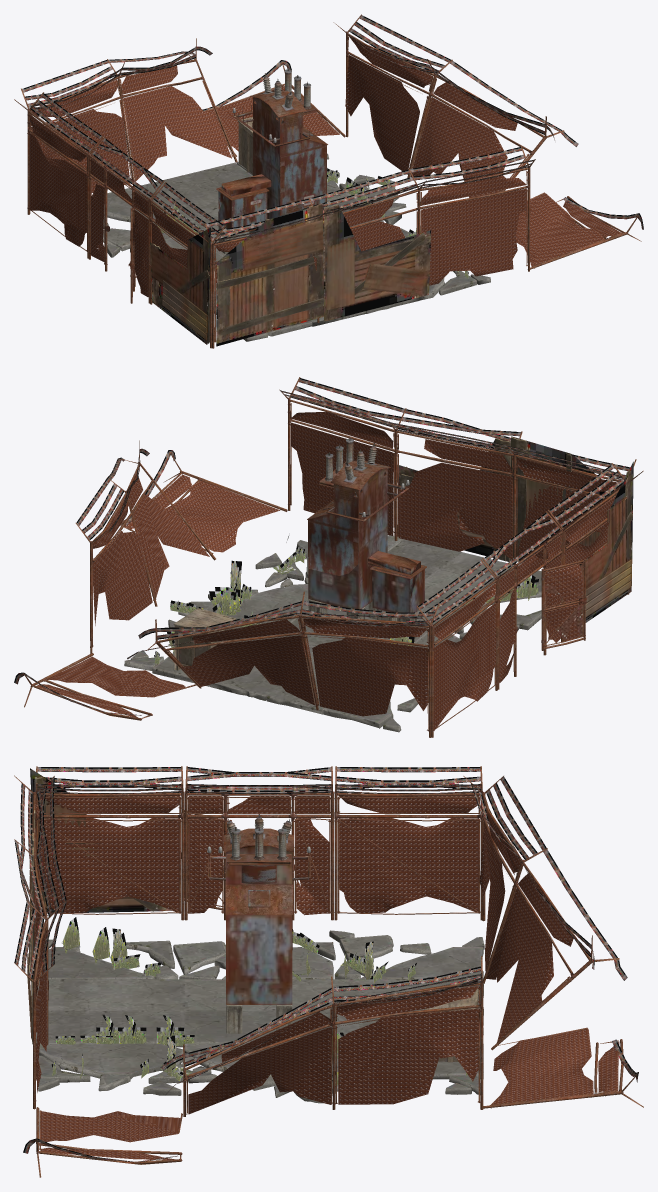
File: power_sub_small_2.glb
3 renders of one model, top to bottom at view 1: azimuth 30°, elevation 25°; view 2: azimuth 150°, elevation 25°; view 3: azimuth 270°, elevation 25°, orthographic. The views are drawn at different scales.
Parts seen in each view (by area): view 1: chainlink_fence_3x9_end_LOD0 (×2), power_sub_small_2, chainlink_fence_3x9_LOD0, chainlink_fence_3x3_LOD0 (×2), substation_a_LOD0, chainlink_fence_3x3_gate_LOD0, cover_c_LOD0, cover_a_LOD0, cover_d_LOD0, concrete_slabs_9x3_fade_a, concrete_slabs_9x3_fade_c, cracks_grass_e_temperate; view 2: chainlink_fence_3x9_end_LOD0 (×2), chainlink_fence_3x9_LOD0, power_sub_small_2, chainlink_fence_3x3_LOD0 (×2), substation_a_LOD0, chainlink_fence_3x3_gate_LOD0, chainlink_fence_door, cracks_grass_e_temperate, cover_a_LOD0, cover_d_LOD0, concrete_slabs_9x3_fade_a, cargo_pack (15) (+4 smaller); view 3: chainlink_fence_3x9_end_LOD0 (×2), chainlink_fence_3x3_LOD0 (×2), power_sub_small_2, chainlink_fence_3x3_gate_LOD0, chainlink_fence_3x9_LOD0, substation_a_LOD0, cracks_grass_h_temperate (×3), concrete_slabs_9x3_fade_a, concrete_slabs_9x3_fade_c, cover_d_LOD0, cracks_grass_e_temperate, cracks_grass_f_temperate (+1 smaller).
Part boxes in pixels (<box>): chainlink_fence_3x9_end_LOD0 (×2): <box>21,14,643,269</box>; power_sub_small_2: <box>103,97,489,346</box>; chainlink_fence_3x9_LOD0: <box>204,146,535,348</box>; chainlink_fence_3x3_LOD0 (×2): <box>14,92,225,348</box>; substation_a_LOD0: <box>216,68,327,253</box>; chainlink_fence_3x3_gate_LOD0: <box>75,137,164,303</box>; cover_c_LOD0: <box>323,204,430,309</box>; cover_a_LOD0: <box>217,203,324,335</box>; cover_d_LOD0: <box>152,243,209,343</box>; concrete_slabs_9x3_fade_a: <box>236,153,490,300</box>; concrete_slabs_9x3_fade_c: <box>103,212,312,341</box>; cracks_grass_e_temperate: <box>327,168,468,278</box>; chainlink_fence_3x9_end_LOD0 (×2): <box>14,440,439,737</box>; chainlink_fence_3x9_LOD0: <box>279,377,636,567</box>; power_sub_small_2: <box>125,436,633,725</box>; chainlink_fence_3x3_LOD0 (×2): <box>416,463,643,737</box>; substation_a_LOD0: <box>307,437,426,638</box>; chainlink_fence_3x3_gate_LOD0: <box>482,511,577,689</box>; chainlink_fence_door: <box>541,558,586,650</box>; cracks_grass_e_temperate: <box>154,535,305,664</box>; cover_a_LOD0: <box>511,437,614,557</box>; cover_d_LOD0: <box>570,472,632,616</box>; concrete_slabs_9x3_fade_a: <box>124,535,404,686</box>; cargo_pack (15): <box>173,608,235,670</box>; chainlink_fence_3x9_end_LOD0 (×2): <box>23,776,643,1177</box>; chainlink_fence_3x3_LOD0 (×2): <box>35,766,482,920</box>; power_sub_small_2: <box>30,768,483,1093</box>; chainlink_fence_3x3_gate_LOD0: <box>184,766,333,920</box>; chainlink_fence_3x9_LOD0: <box>14,775,66,1109</box>; substation_a_LOD0: <box>207,814,310,1033</box>; cracks_grass_h_temperate (×3): <box>55,917,416,1045</box>; concrete_slabs_9x3_fade_a: <box>36,1044,483,1103</box>; concrete_slabs_9x3_fade_c: <box>48,930,484,979</box>; cover_d_LOD0: <box>36,777,166,911</box>; cracks_grass_e_temperate: <box>51,1036,467,1081</box>; cracks_grass_f_temperate: <box>292,929,382,979</box>.
Size of the model in its own units: 12.81 by 4.54 by 12.63.
9 materials, 9 textured.
